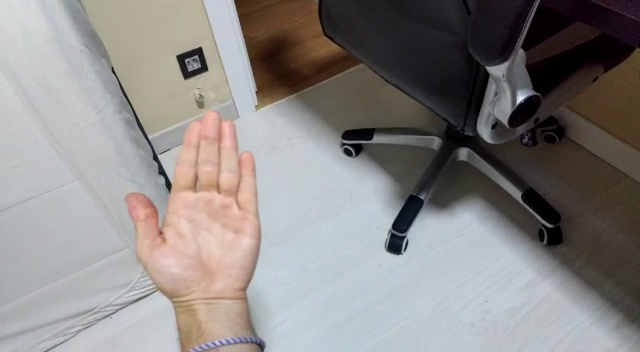Palm: (120, 110, 263, 300)
